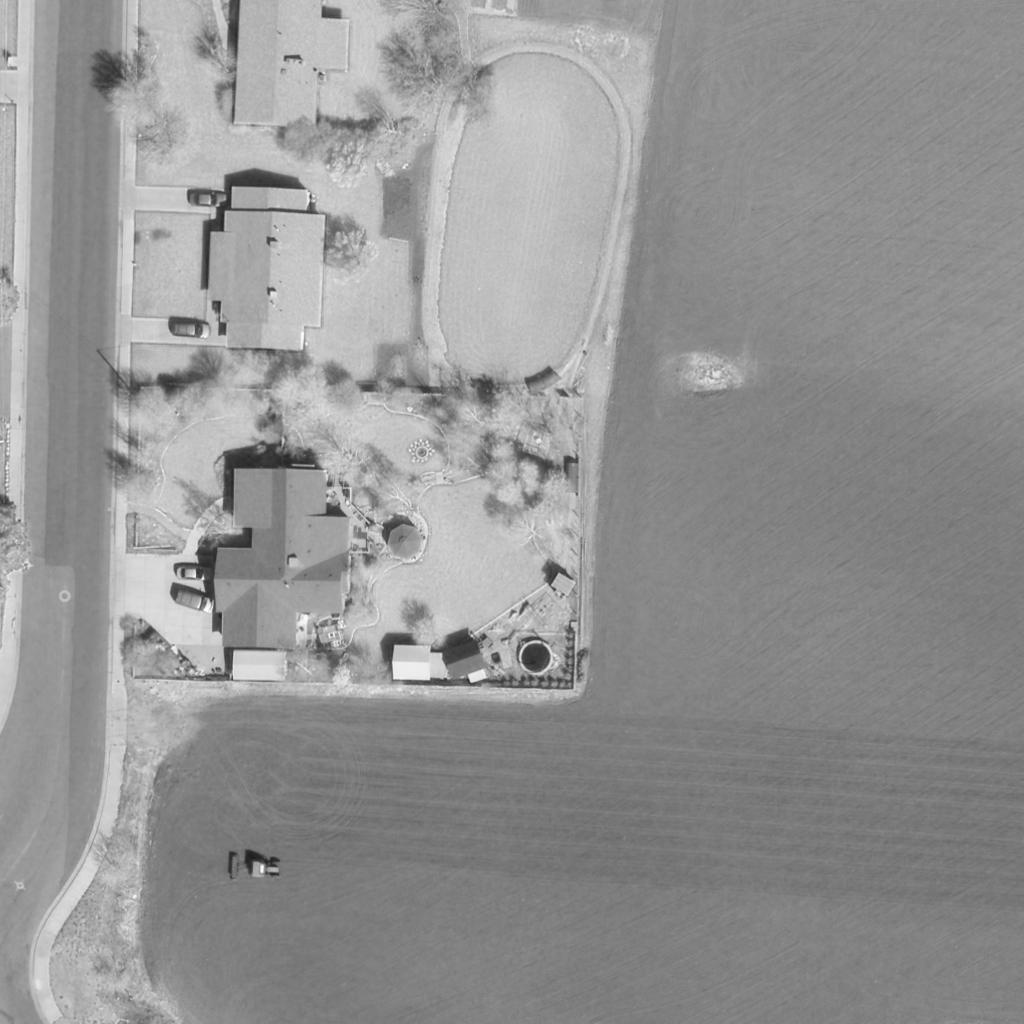vehicle: (247, 855, 283, 883), (175, 591, 215, 615), (169, 321, 213, 339), (189, 191, 229, 207), (178, 567, 212, 579)
